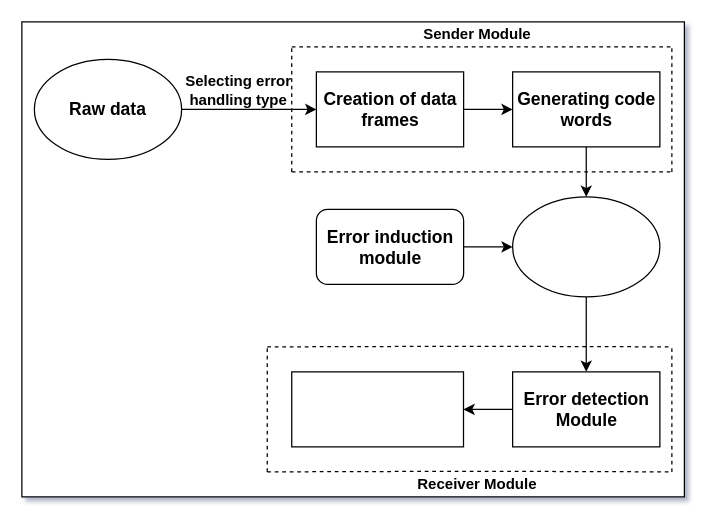
Image size: 714x526. Some labels were removed from this diagram. The shapes that lost their labels are listed below. From the top down, each one's box as (x1, y1, x2, y2) in pixels, then its label:
(511, 196, 660, 297): Transmission of data
(290, 371, 464, 447): If no error detected, data frames extraction
